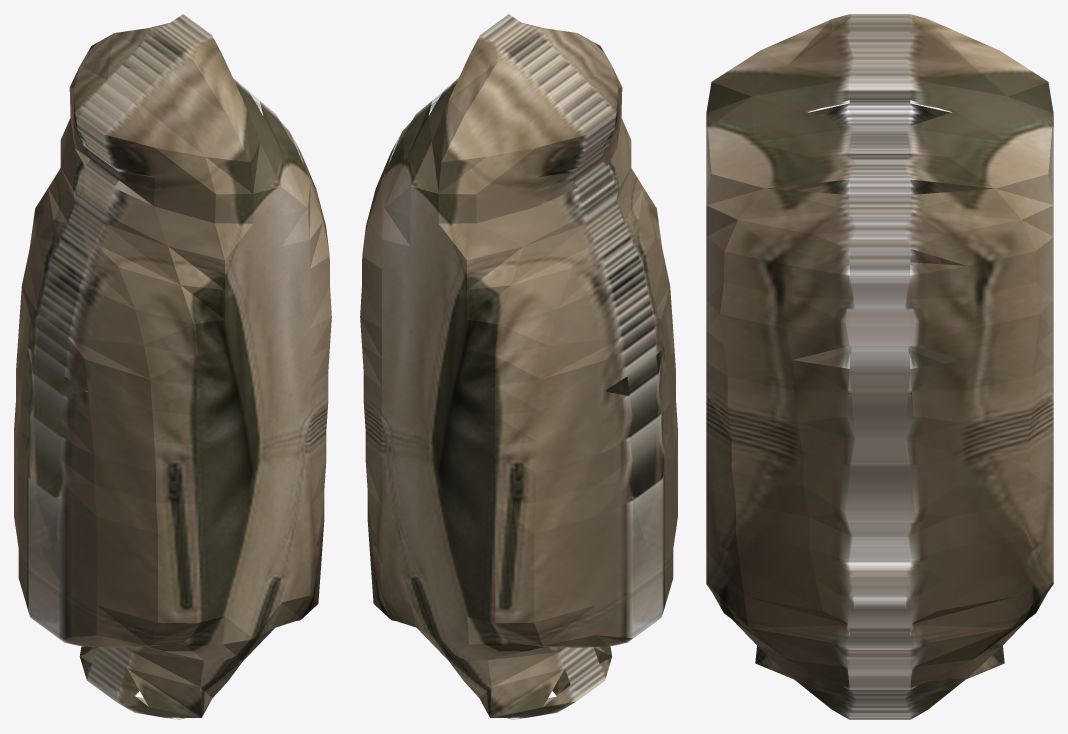
The model's file is arai-circuit-leather-jacket-005.glb.
3 views of the same model, side by side, from view 1: azimuth 30°, elevation 25°; view 2: azimuth 150°, elevation 25°; view 3: azimuth 270°, elevation 25° (orthographic). The views are drawn at different scales.
Visible parts, largest first — view 1: world; view 2: world; view 3: world.
Boxes of the visible parts, box(x1,y1,x2,y2) form: world: box(14, 14, 331, 719); world: box(360, 14, 677, 719); world: box(706, 14, 1053, 719).
Bounding box in the file's own units: 0.3977 × 1 × 0.44.
Materials: 1 (1 with a texture image).
